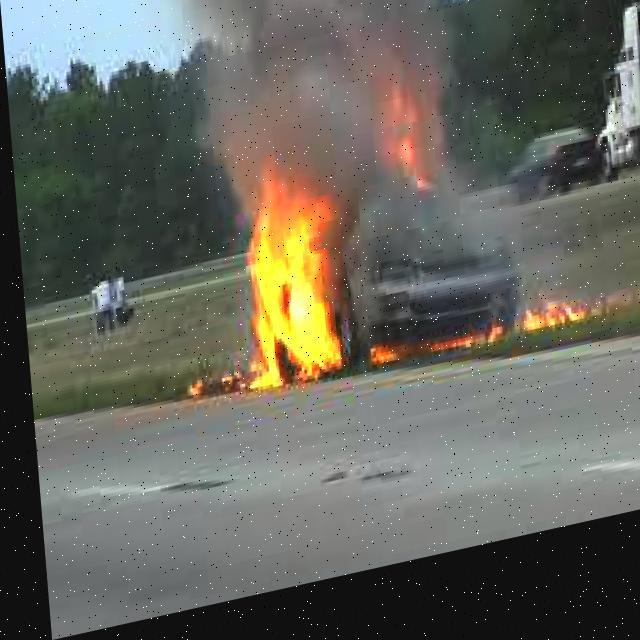Fire: (222, 163, 352, 413), (351, 80, 454, 236)
